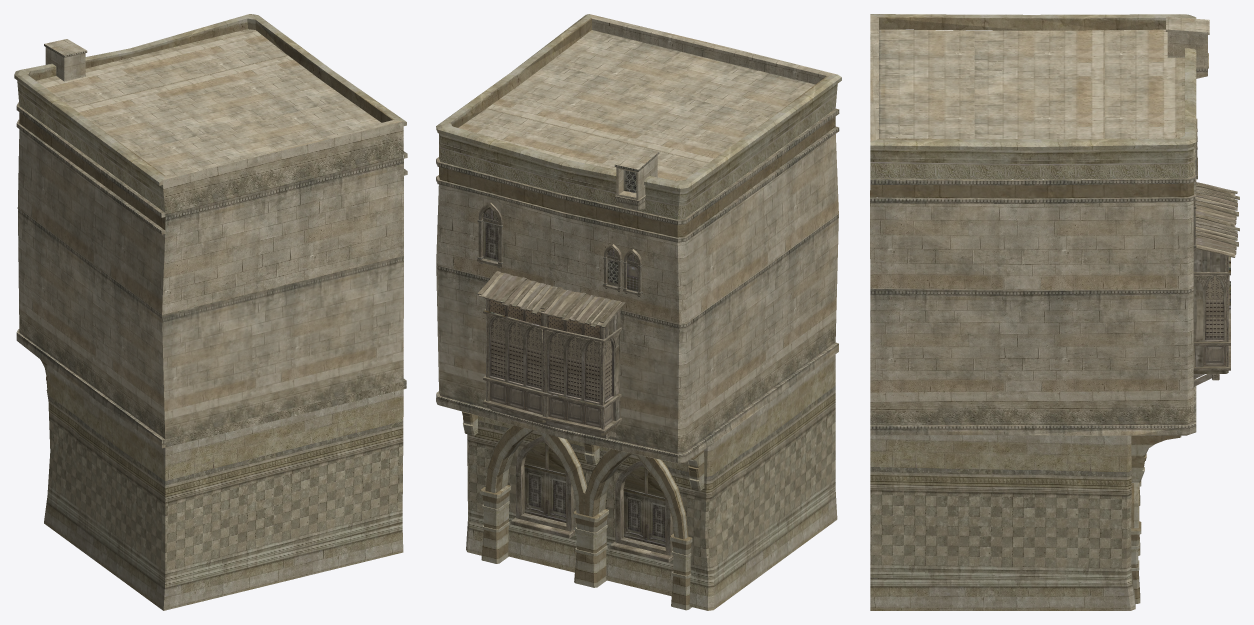
File: TW2_5_HOUSE_04_2-transformed.glb
3 renders of one model, left to right at view 1: azimuth 30°, elevation 25°; view 2: azimuth 150°, elevation 25°; view 3: azimuth 270°, elevation 25°, orthographic. The views are drawn at different scales.
Parts seen in each view (by area): view 1: default; view 2: default; view 3: default.
Boxes of the visible parts, x1=… form: default: x1=14, y1=14, x2=407, y2=610; default: x1=436, y1=14, x2=841, y2=610; default: x1=870, y1=14, x2=1239, y2=610.
Size of the model in its own units: 6.89 by 11.9 by 8.16.
Materials: 5 (5 with a texture image).
